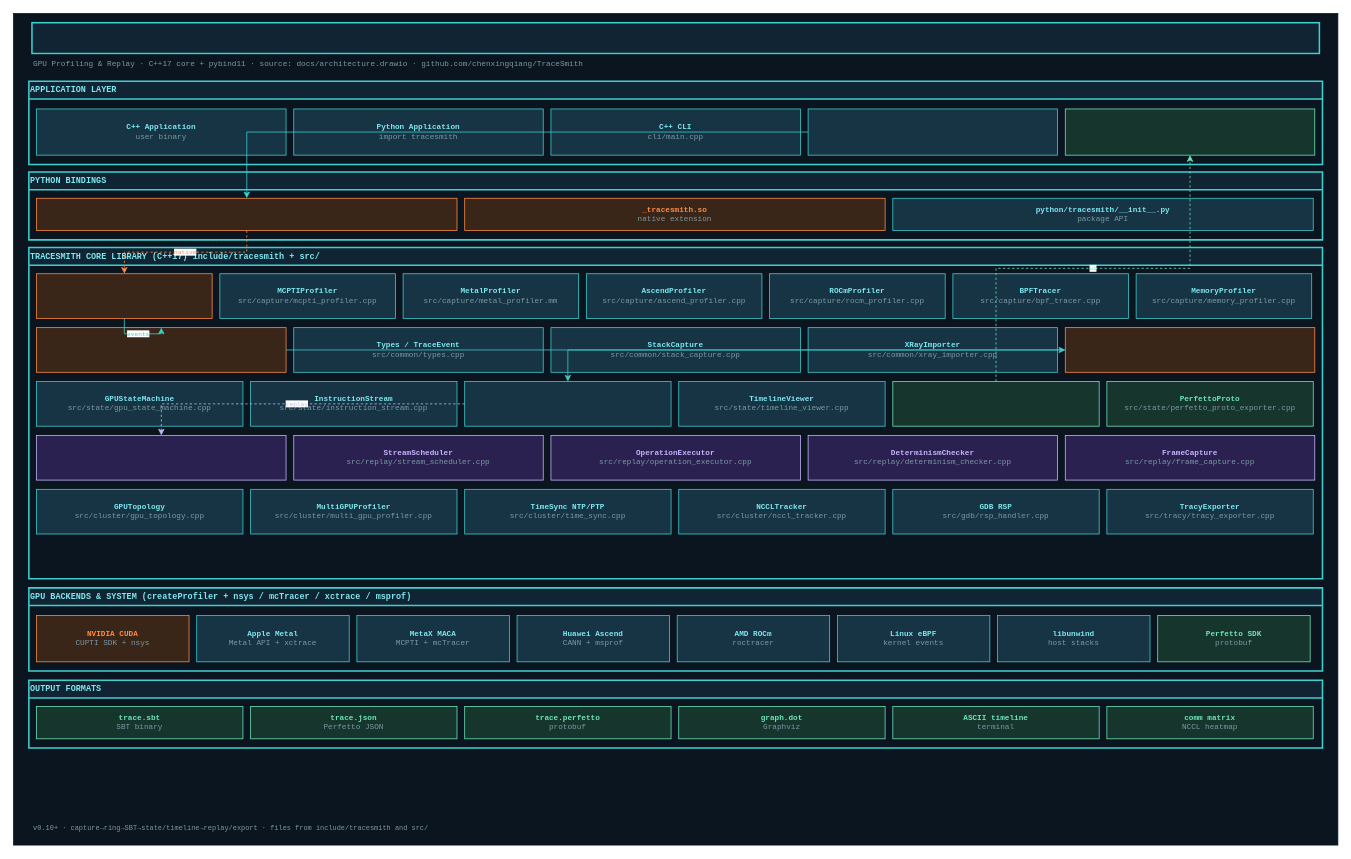
The diagram is 1351 pixels wide and 859 high, and some of its shapes have lost their labels. Each missing label, with the centre of its shape:
CUPTIProfiler src/capture/cupti_profiler.cpp: point 124,295
External Tools Perfetto UI / Chrome: point 1190,131
PerfettoExporter src/state/perfetto_exporter.cpp: point 995,403
pybind11 module python/src/bindings.cpp: point 246,214
Python CLI python/tracesmith/cli.py: point 932,131
ReplayEngine src/replay/replay_engine.cpp: point 161,457
RingBuffer SPSC common/ring_buffer.hpp: point 161,349
SBTWriter/Reader src/format/sbt_format.cpp: point 1190,349
TimelineBuilder src/state/timeline_builder.cpp: point 567,403
TRACESMITH — SYSTEM ARCHITECTURE: point 675,38
